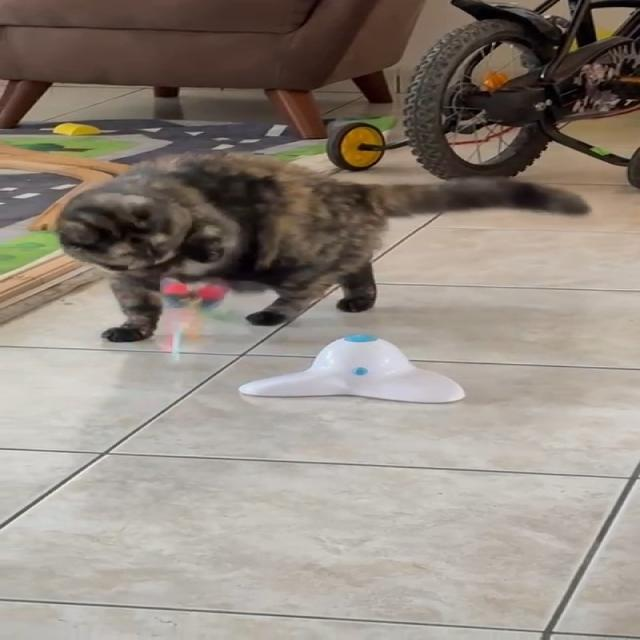authorized: (53, 150, 592, 343)
